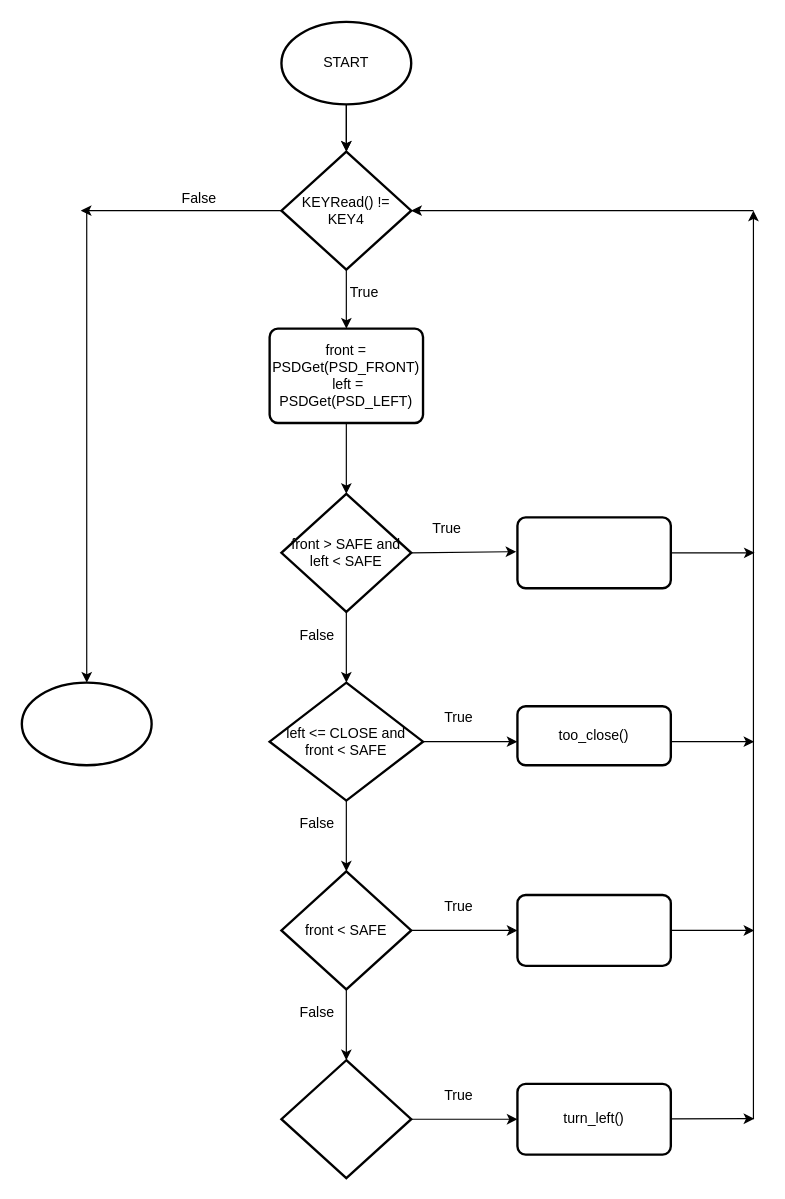
Some shapes in this 785 by 1199 pixel diagram are drawn without their labels. Here are the shapes that lost their labels. From the top down, the centre of each, then its label:
At (593,552): "straight()".
At (86,723): "STOP".
At (593,929): "turn_right()".
At (346,1118): "left > SAFE".
